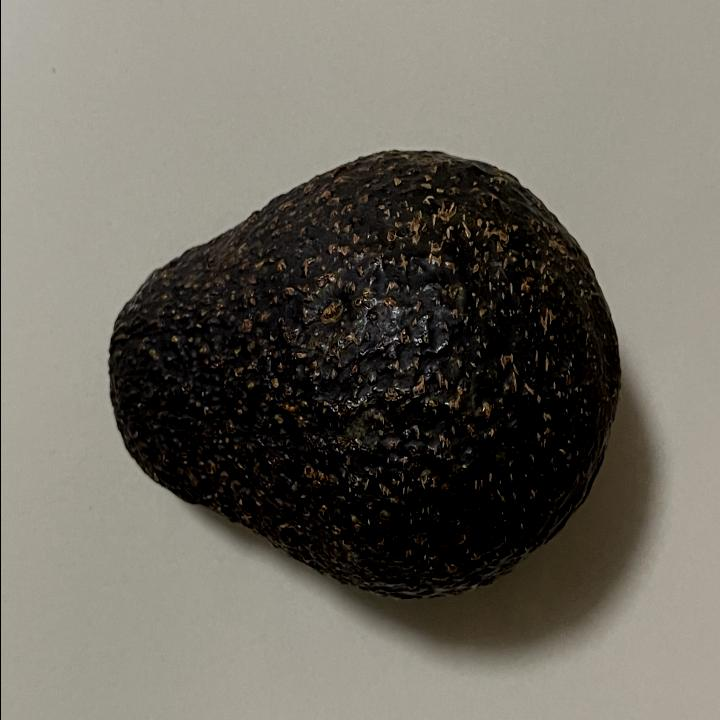Level2: (100, 142, 624, 606)
